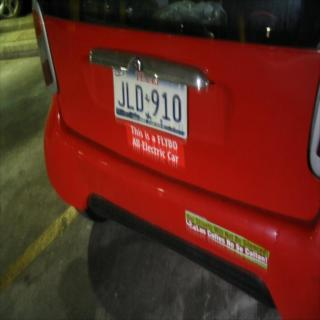license: (109, 68, 191, 137)
